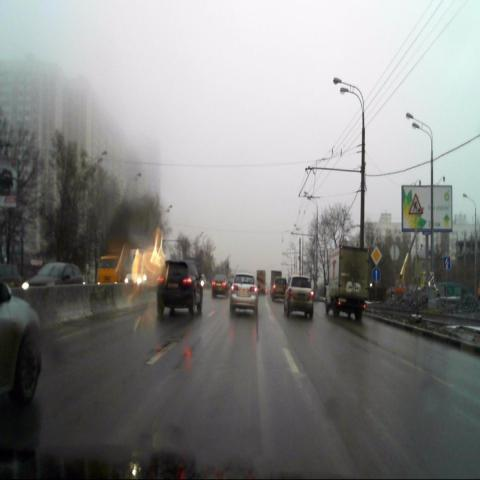1_25: (408, 193, 422, 214)
2_1: (370, 245, 382, 266)
4_1_1: (372, 267, 380, 282)
5_6: (444, 256, 450, 269)
